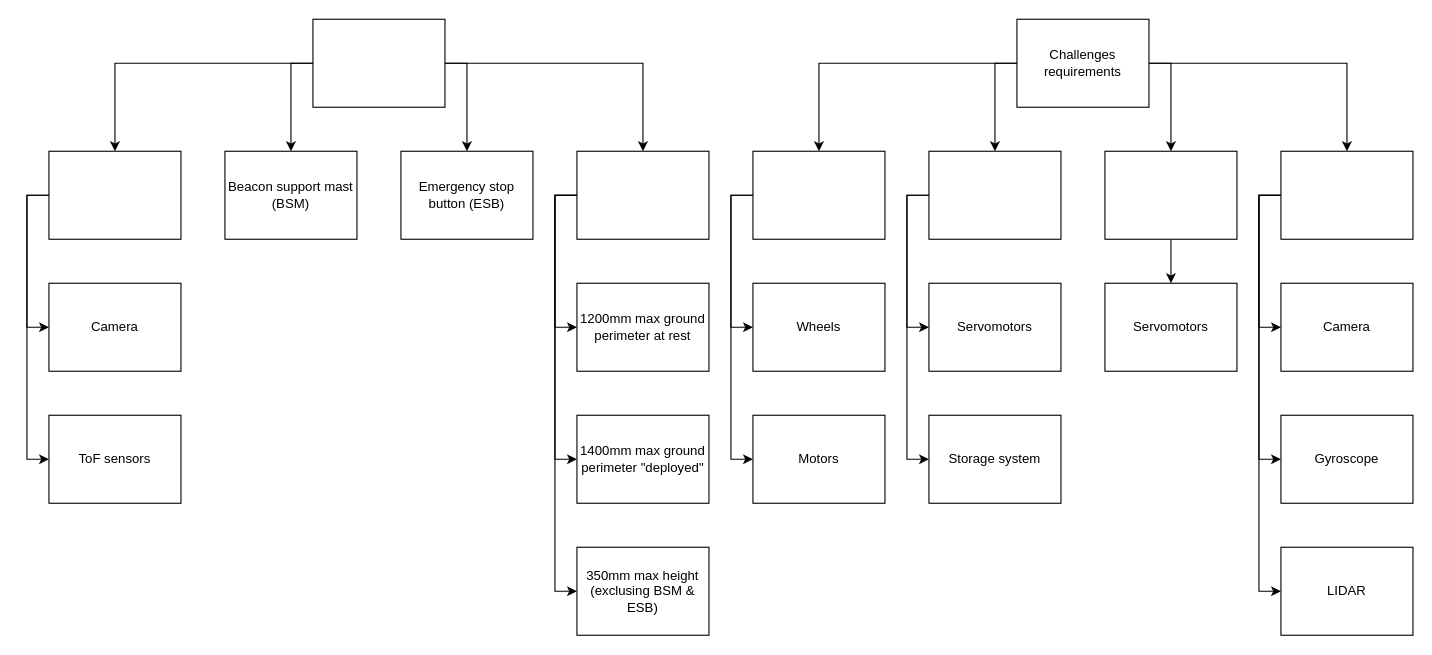
Image size: 1432x655. Some labels were removed from this diagram. The shapes that lost their labels are listed below. From the top down, each one's centre as x and y in pixels, then its label:
(x=378, y=62): Rules requirements
(x=114, y=194): Opponent detection program
(x=642, y=194): Dimensions requirements
(x=818, y=194): Movement requirements
(x=994, y=194): Crate manipulation
(x=1170, y=194): Cursor manipulation
(x=1346, y=194): Field & positioning detection
